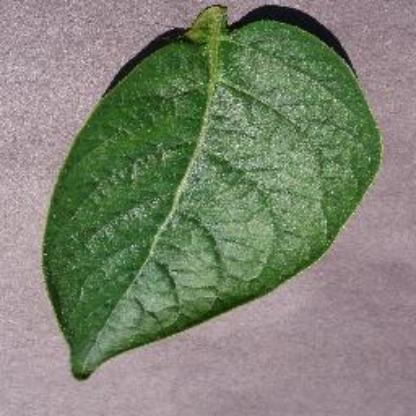Healthy-plant: (39, 6, 384, 380)
